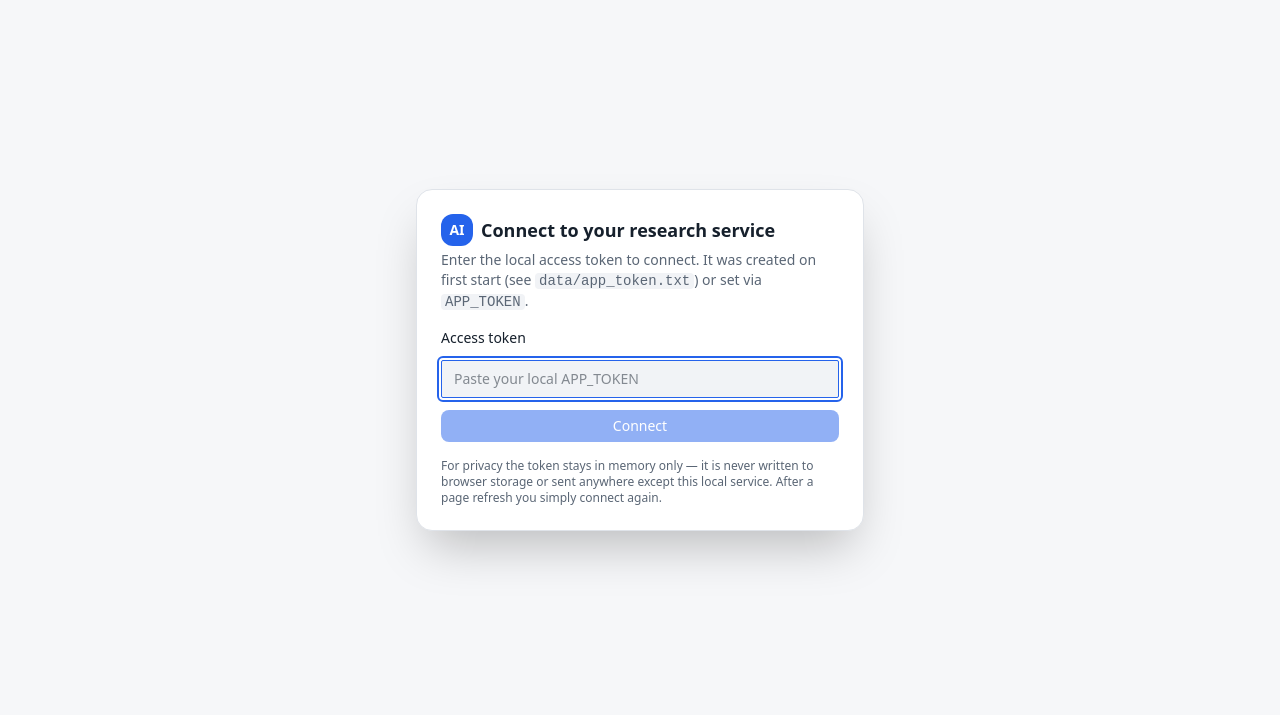
Test: live progress › surfaces an incomplete outcome with its warning
This screenshot has width=1280, height=715.
Type "test-token-123" into the password field labelled "Access token" at [640, 379], box x1=441 y1=360 x2=839 y2=398
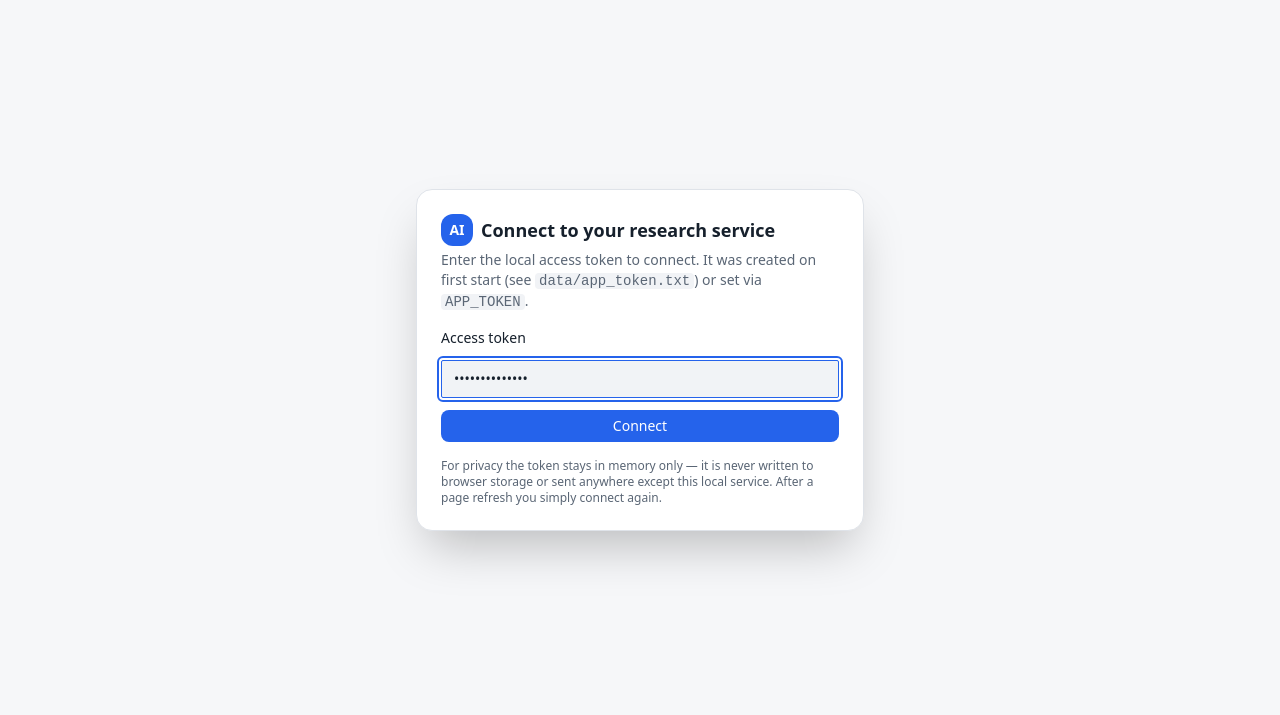
Click the button "Connect" at [640, 426], box x1=441 y1=410 x2=839 y2=442
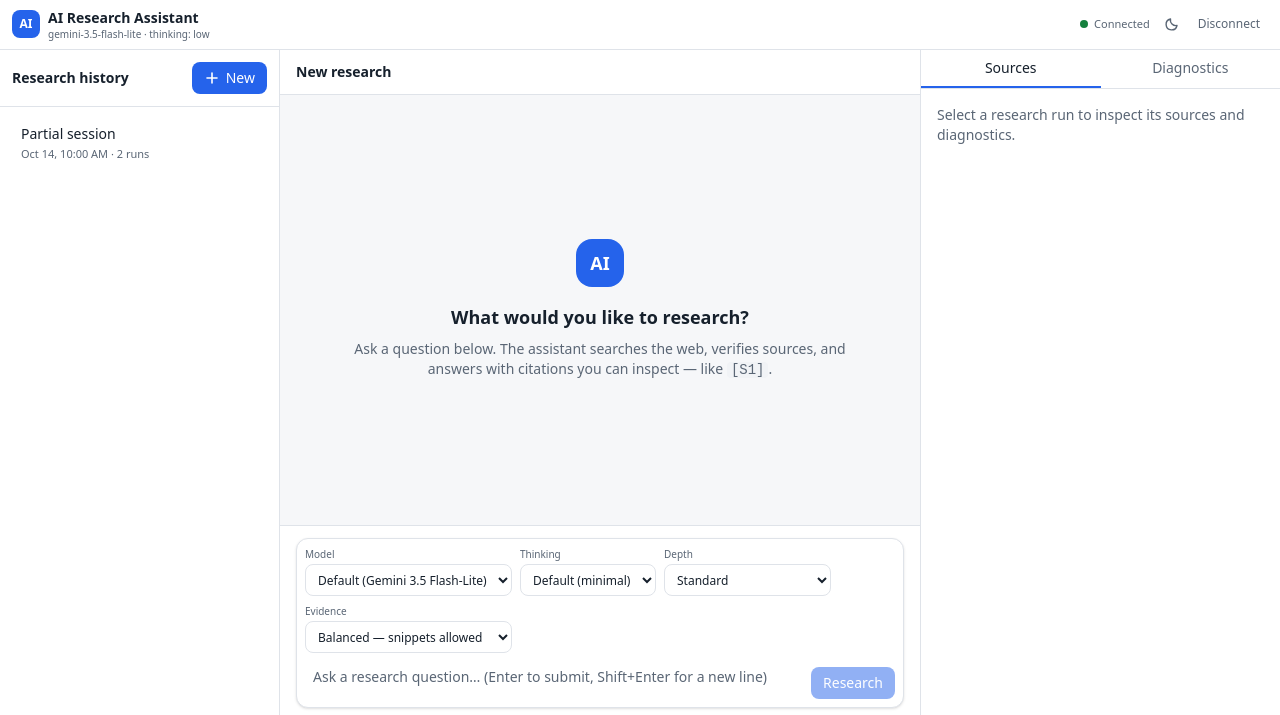
Expected: the heading "What would you like to research?" is shown, x1=451 y1=303 x2=749 y2=331
Click the text "Partial session" at [68, 133], box x1=21 y1=124 x2=116 y2=142
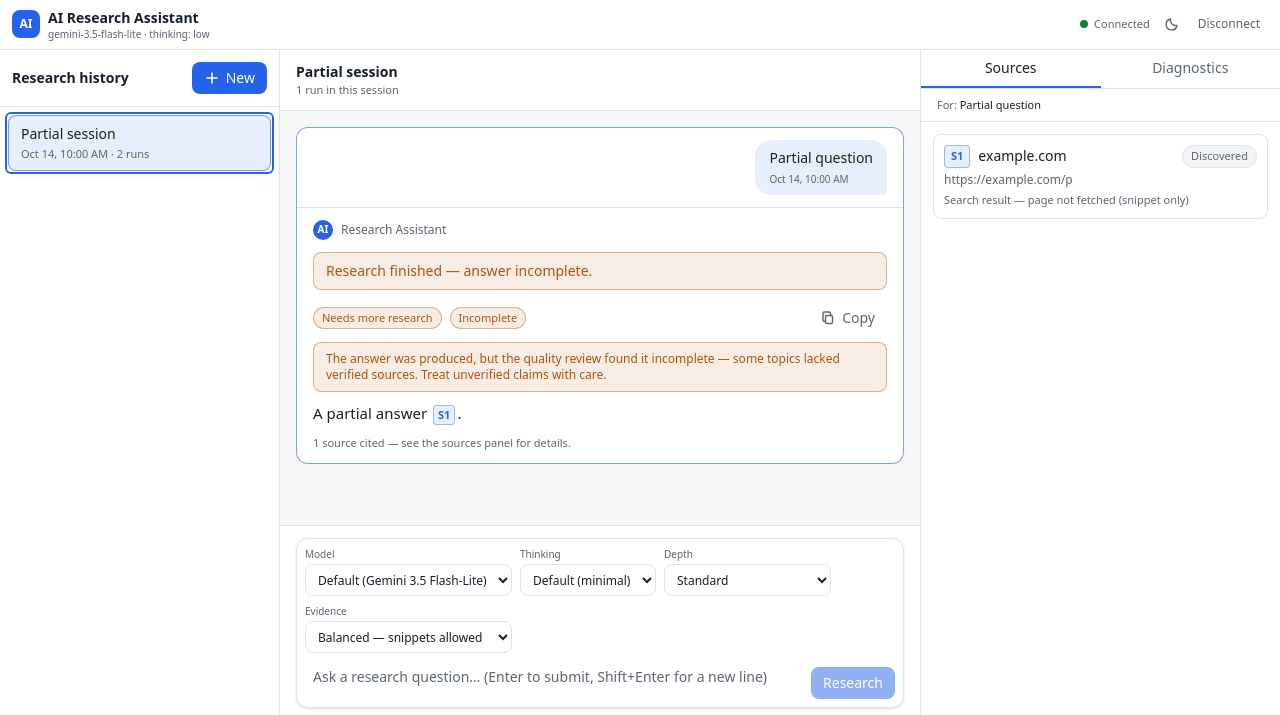
Now the text "A partial answer S1 ." is shown, box x1=313 y1=403 x2=461 y2=425
Now the text "Incomplete" is shown, box x1=450 y1=307 x2=526 y2=329
Now the text "Needs more research" is shown, box x1=313 y1=307 x2=442 y2=329
Click the tab "Diagnostics" at [1190, 68], box x1=1100 y1=50 x2=1279 y2=88
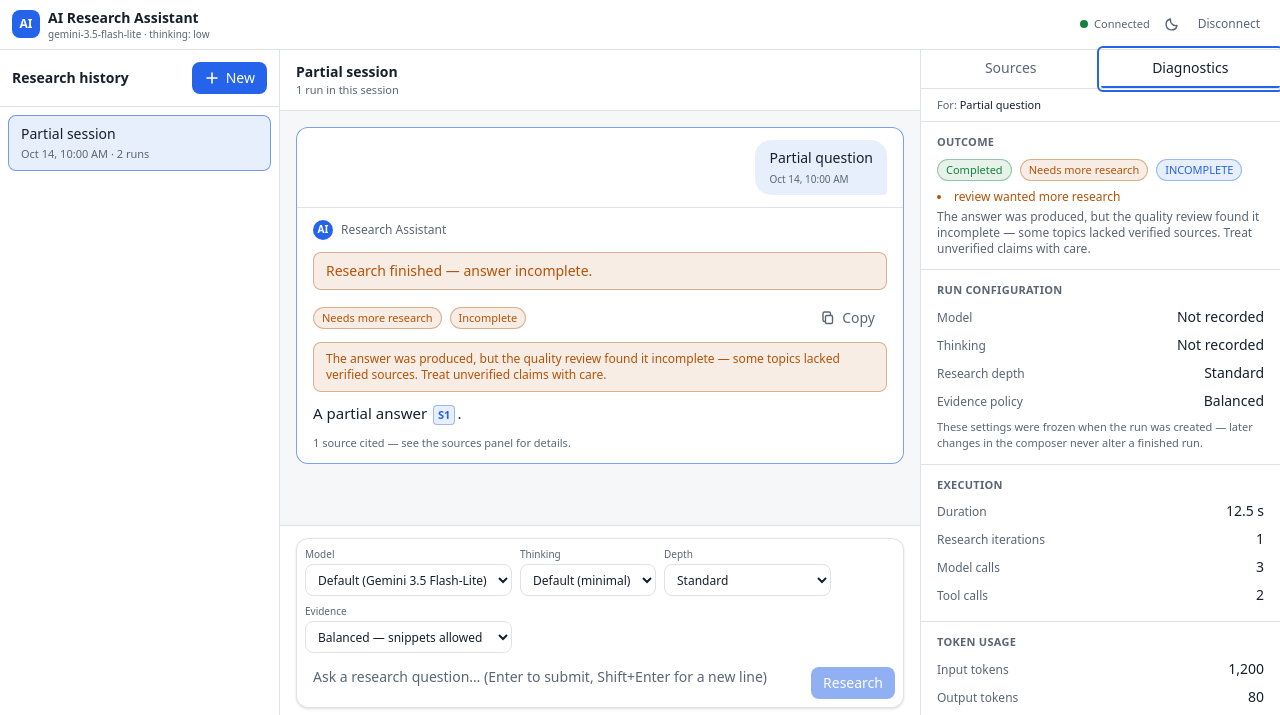
Now the list item "review wanted more research" is shown, box x1=954 y1=188 x2=1120 y2=205
